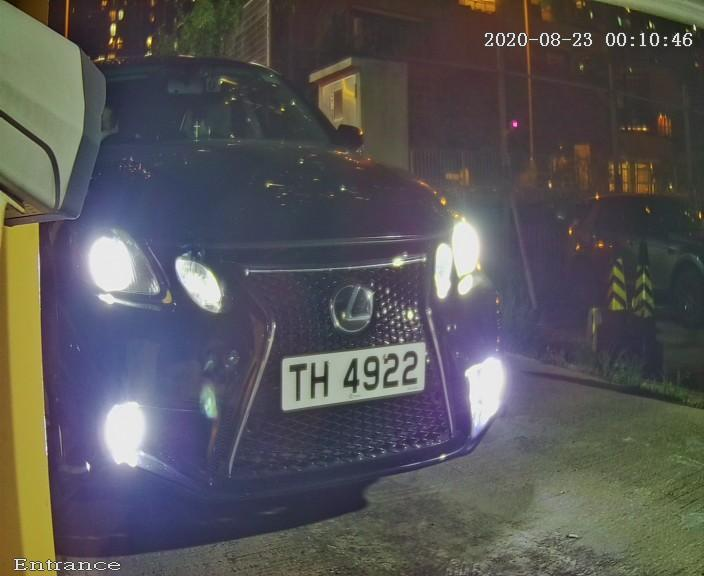Car: (29, 11, 529, 535)
License Plate: (247, 320, 453, 444)
